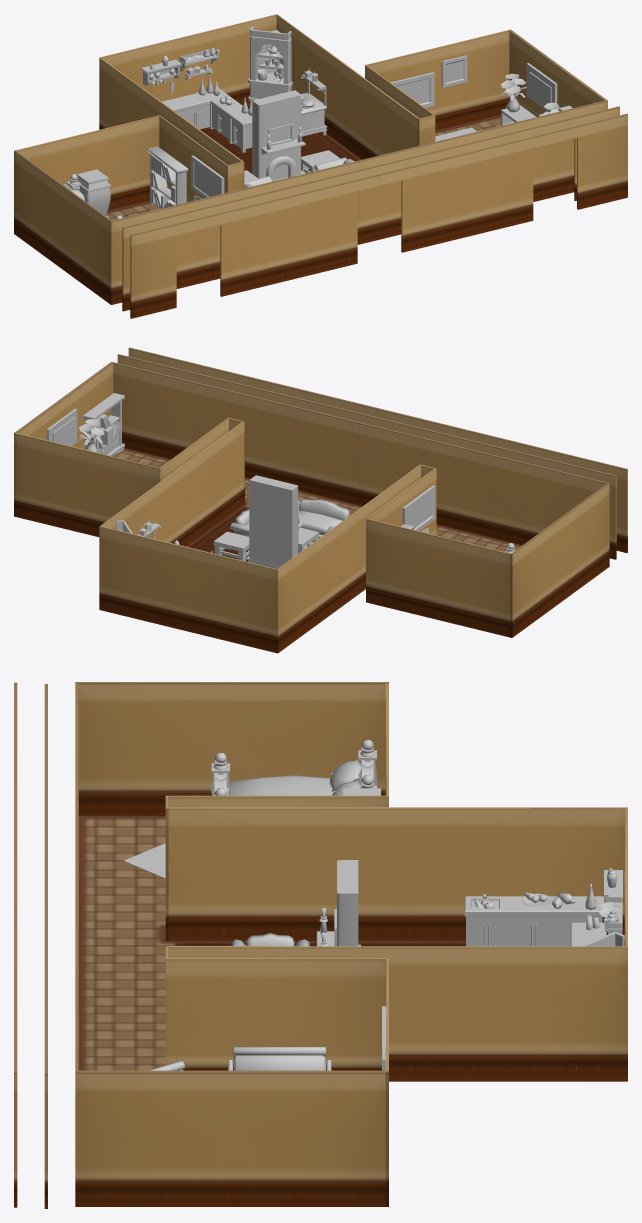
Rendered from Room_04_F.FBX.
3 renders of one model, top to bottom at view 1: azimuth 30°, elevation 25°; view 2: azimuth 150°, elevation 25°; view 3: azimuth 270°, elevation 25°, orthographic. The views are drawn at different scales.
Parts seen in each view (by area): view 1: Wall_Door_04_single, Room4_Wall2, Room4_Wall5, Room4_Wall1, Room4_Wall4, Room4_Wall3, Wall_Door_04_double, FirePlace_006, Kitchen_Cabinet_003, Room4_Wall6, Kitchen_Cupborad_006, Room4_Floor (+10 smaller); view 2: Room4_Wall5, Room4_Wall2, Room4_Wall1, Room4_Wall3, Room4_Wall4, Wall_Door_04_single, Wall_Door_04_double, FirePlace_006, Room4_Floor, Room4_Wall6, Bookcase_010, Sofa_007 (+4 smaller); view 3: Room4_Wall2, Room4_Wall6, Room4_Wall4, Room4_Wall3, Room4_Floor, Kitchen_Cabinet_004, Bed005, Room4_Wall1, FirePlace_006, Sofa_008, Wall_Door_04_single, Wall_Door_04_double (+5 smaller).
Part boxes in pixels (x1,y1,x2,y2): Wall_Door_04_single: [130, 113, 627, 318]; Room4_Wall2: [99, 14, 419, 164]; Room4_Wall5: [110, 100, 607, 304]; Room4_Wall1: [14, 115, 244, 233]; Room4_Wall4: [14, 150, 112, 304]; Room4_Wall3: [365, 29, 511, 145]; Wall_Door_04_double: [122, 106, 619, 311]; FirePlace_006: [252, 90, 305, 181]; Kitchen_Cabinet_003: [162, 77, 252, 152]; Room4_Wall6: [508, 30, 607, 116]; Kitchen_Cupborad_006: [248, 26, 292, 105]; Room4_Floor: [106, 104, 500, 220]; Room4_Wall5: [111, 361, 609, 566]; Room4_Wall2: [99, 422, 420, 653]; Room4_Wall1: [366, 464, 512, 637]; Room4_Wall3: [14, 417, 244, 536]; Room4_Wall4: [510, 483, 608, 637]; Wall_Door_04_single: [128, 347, 627, 552]; Wall_Door_04_double: [117, 354, 616, 559]; FirePlace_006: [246, 475, 302, 569]; Room4_Floor: [112, 448, 521, 561]; Room4_Wall6: [14, 362, 113, 516]; Bookcase_010: [83, 393, 124, 455]; Sofa_007: [298, 499, 350, 538]; Room4_Wall2: [168, 807, 627, 1081]; Room4_Wall6: [75, 1070, 388, 1206]; Room4_Wall4: [78, 682, 388, 815]; Room4_Wall3: [165, 946, 388, 1206]; Room4_Floor: [78, 816, 624, 1070]; Kitchen_Cabinet_004: [464, 884, 603, 946]; Bed005: [211, 739, 377, 795]; Room4_Wall1: [165, 683, 388, 941]; FirePlace_006: [316, 860, 358, 946]; Sofa_008: [228, 1047, 331, 1070]; Wall_Door_04_single: [14, 682, 17, 1207]; Wall_Door_04_double: [44, 684, 47, 1208].
Bounding box in the file's own units: 574 × 92.75 × 379.
